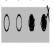correct: (28, 12, 35, 33)
not correct: (40, 4, 50, 34)
